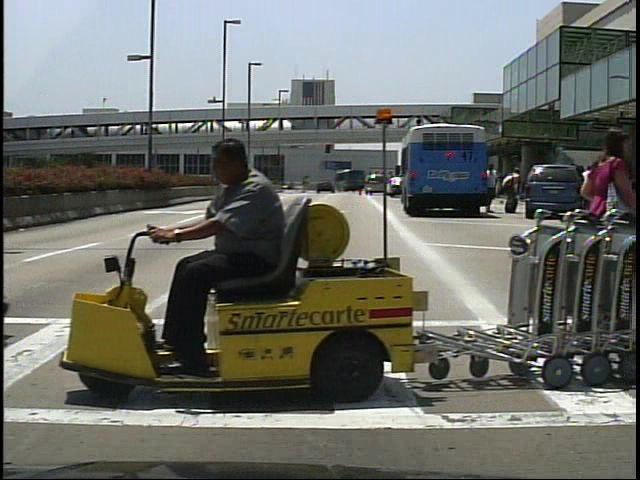person: (166, 135, 292, 374), (579, 119, 638, 350), (480, 162, 501, 216), (580, 164, 601, 214), (504, 165, 523, 217)
